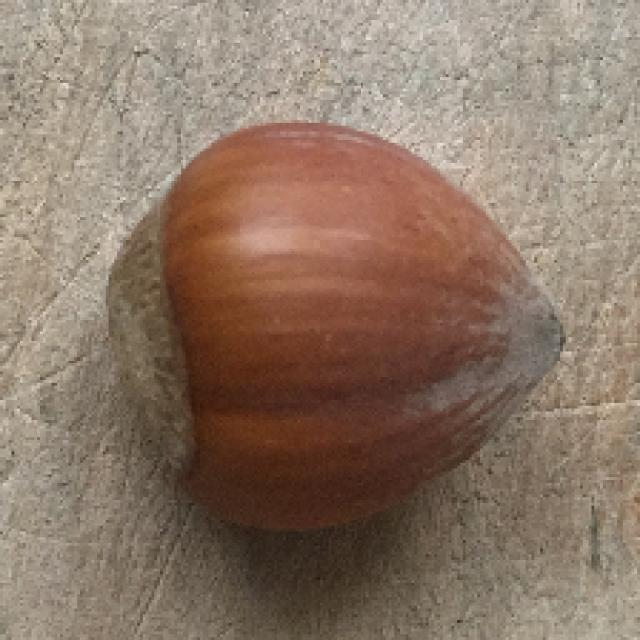QualityHazelnut: (107, 125, 571, 527)
